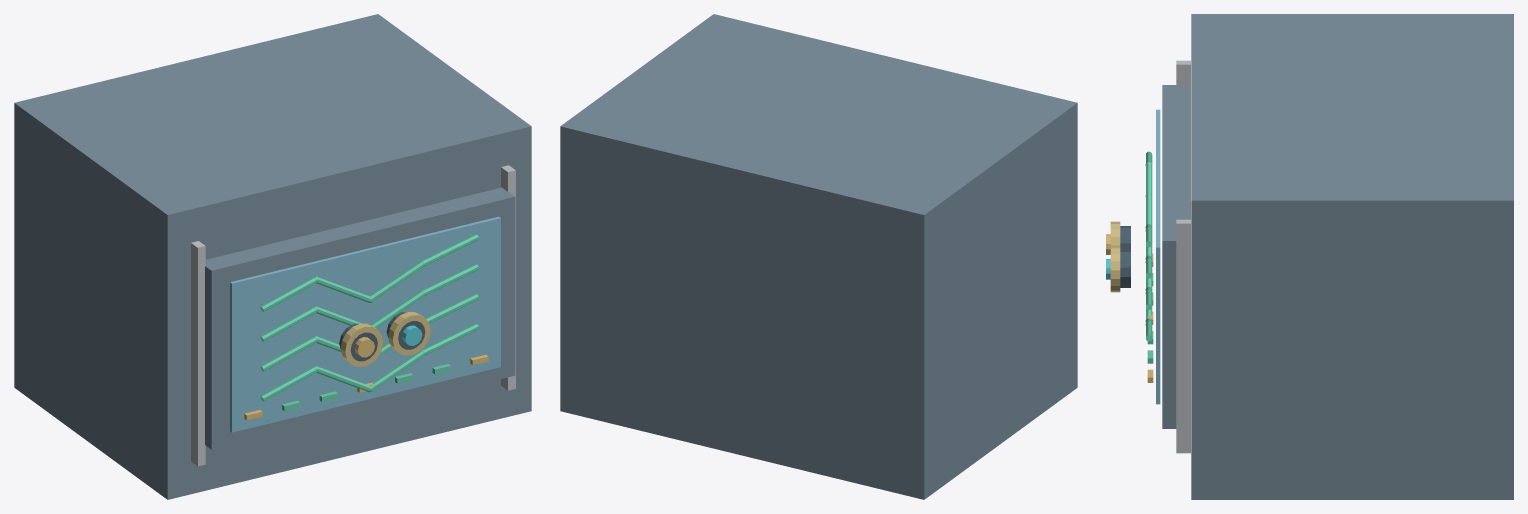
The model's file is 08_L81_ParticleEventPatternDirector.glb.
3 renders of one model, left to right at view 1: azimuth 30°, elevation 25°; view 2: azimuth 150°, elevation 25°; view 3: azimuth 270°, elevation 25°, orthographic. The views are drawn at different scales.
Visible parts, largest first — view 1: ParticleEventPatternDirector_Node_0000, ParticleEventPatternDirector_Node_0002, ParticleEventPatternDirector_Node_0001, ParticleEventPatternDirector_Node_0038, ParticleEventPatternDirector_Node_0056, ParticleEventPatternDirector_Node_0053, ParticleEventPatternDirector_Node_0039; view 2: ParticleEventPatternDirector_Node_0000; view 3: ParticleEventPatternDirector_Node_0000, ParticleEventPatternDirector_Node_0001, ParticleEventPatternDirector_Node_0039, ParticleEventPatternDirector_Node_0002, ParticleEventPatternDirector_Node_0038, ParticleEventPatternDirector_Node_0056.
Part boxes in pixels (<box>): ParticleEventPatternDirector_Node_0000: <box>14,14,531,499</box>; ParticleEventPatternDirector_Node_0002: <box>230,216,500,432</box>; ParticleEventPatternDirector_Node_0001: <box>205,187,515,449</box>; ParticleEventPatternDirector_Node_0038: <box>191,241,205,466</box>; ParticleEventPatternDirector_Node_0056: <box>388,312,430,355</box>; ParticleEventPatternDirector_Node_0053: <box>340,323,383,366</box>; ParticleEventPatternDirector_Node_0039: <box>501,165,515,390</box>; ParticleEventPatternDirector_Node_0000: <box>560,14,1077,499</box>; ParticleEventPatternDirector_Node_0000: <box>1191,14,1513,499</box>; ParticleEventPatternDirector_Node_0001: <box>1162,85,1189,428</box>; ParticleEventPatternDirector_Node_0039: <box>1176,219,1190,453</box>; ParticleEventPatternDirector_Node_0002: <box>1156,109,1160,404</box>; ParticleEventPatternDirector_Node_0038: <box>1176,60,1190,219</box>; ParticleEventPatternDirector_Node_0056: <box>1110,246,1120,292</box>.
Size of the model in its own units: 1.15 by 0.86 by 1.06.
